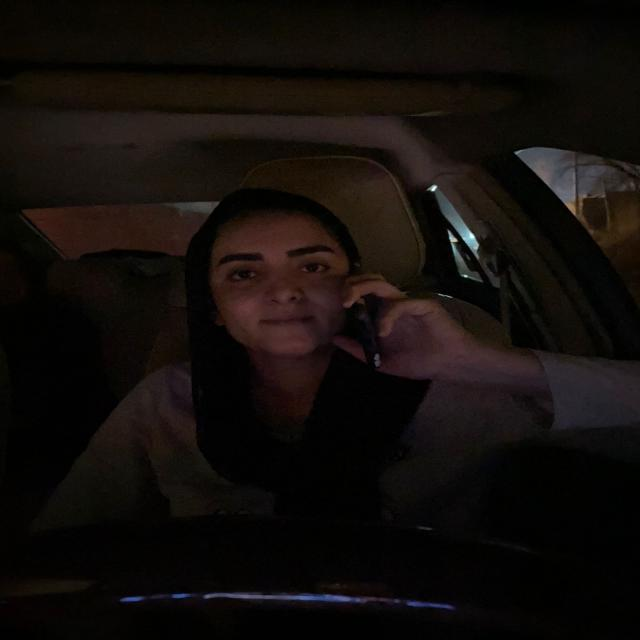mobile: (345, 296, 396, 373)
person: (185, 180, 384, 367)
